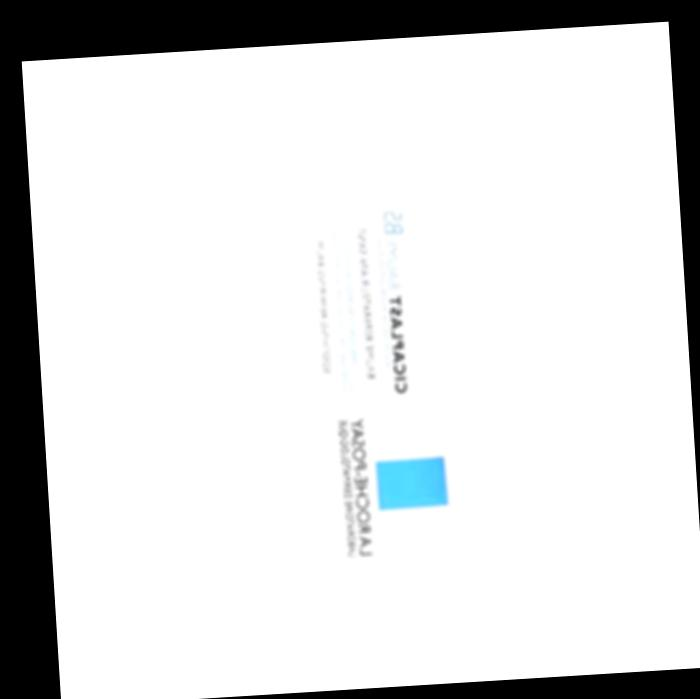cosmetic: (235, 77, 505, 635)
